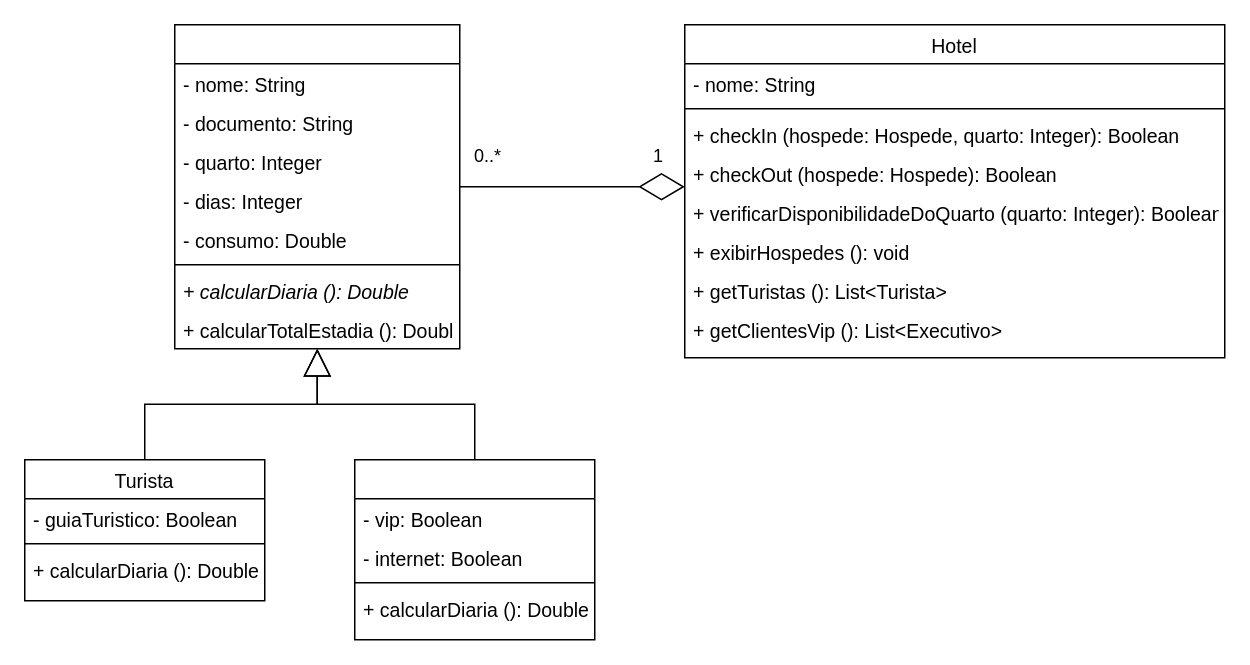
This 1250x665 diagram has some shape labels left out. The box of each missing label's shape, as (x1, y1, x2, y2) in pixels:
Executivo: (353, 458, 595, 640)
Hospede: (173, 23, 460, 349)
